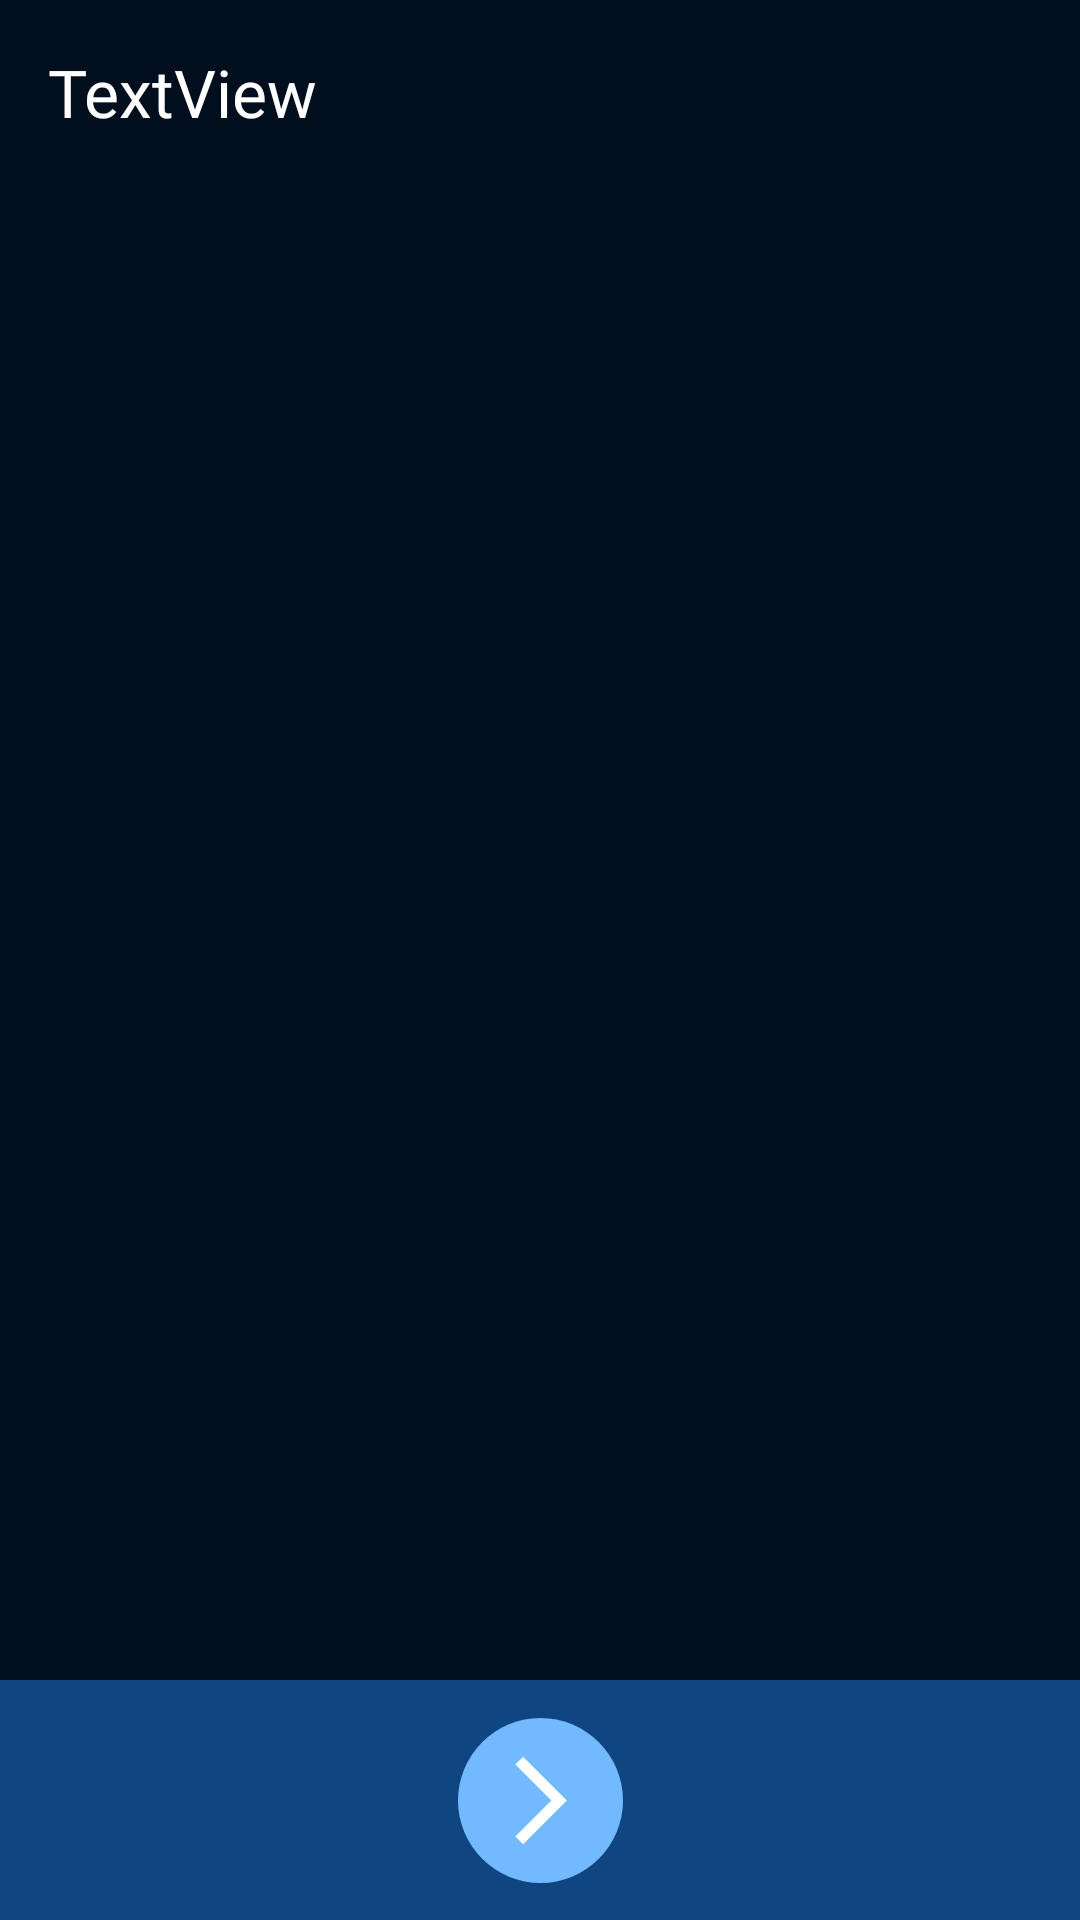

Icon bounding boxes for this 1080×1920 phone screenshot, format (x1, y1, x2, y2):
next: (458, 1718, 623, 1883)
